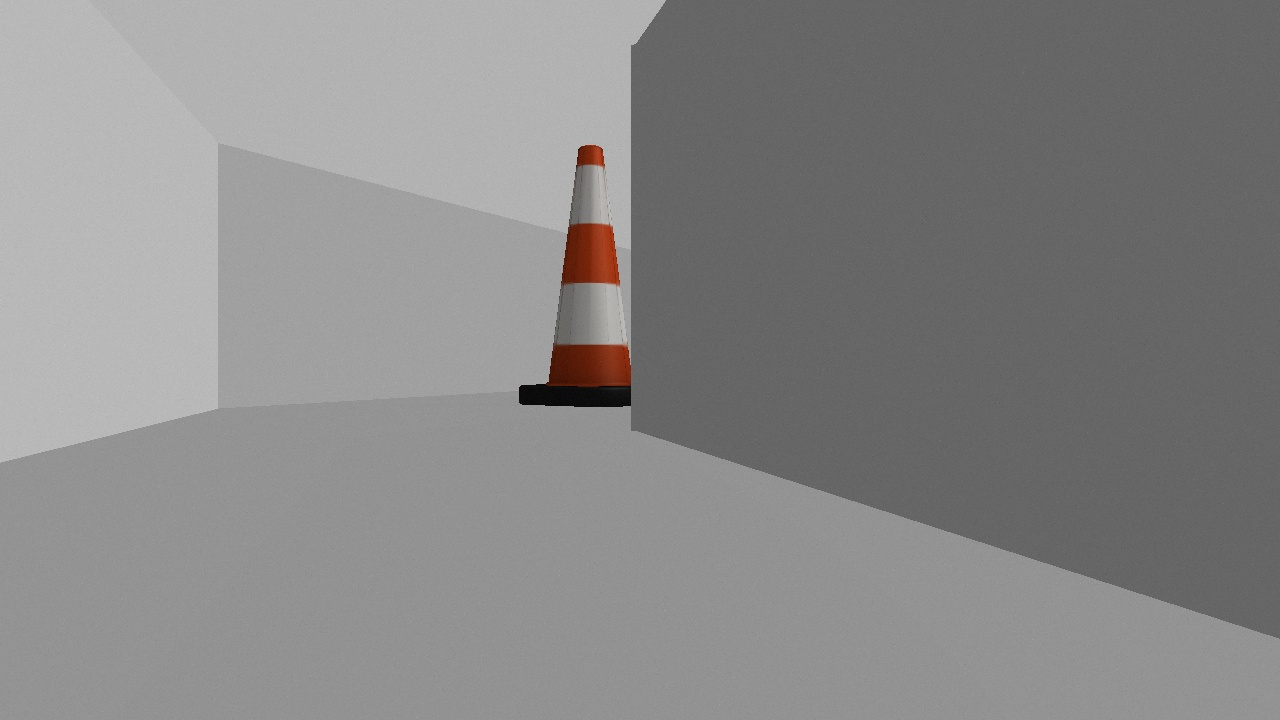barricade: (516, 145, 666, 408)
